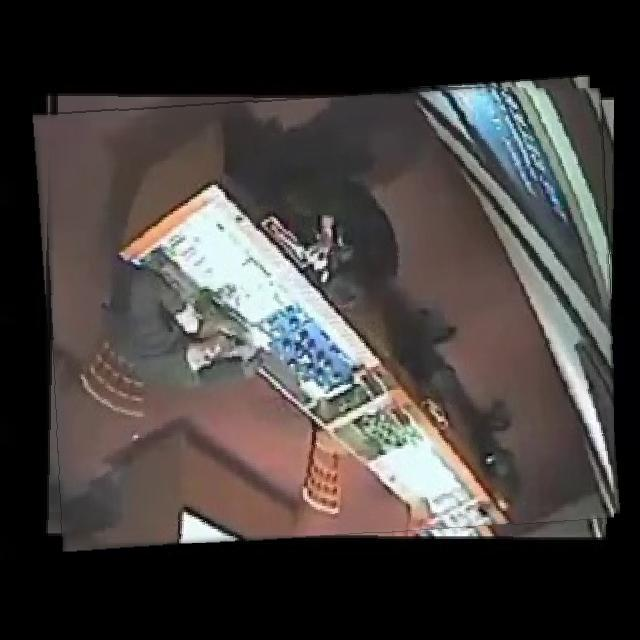Normal: (40, 84, 614, 543)
